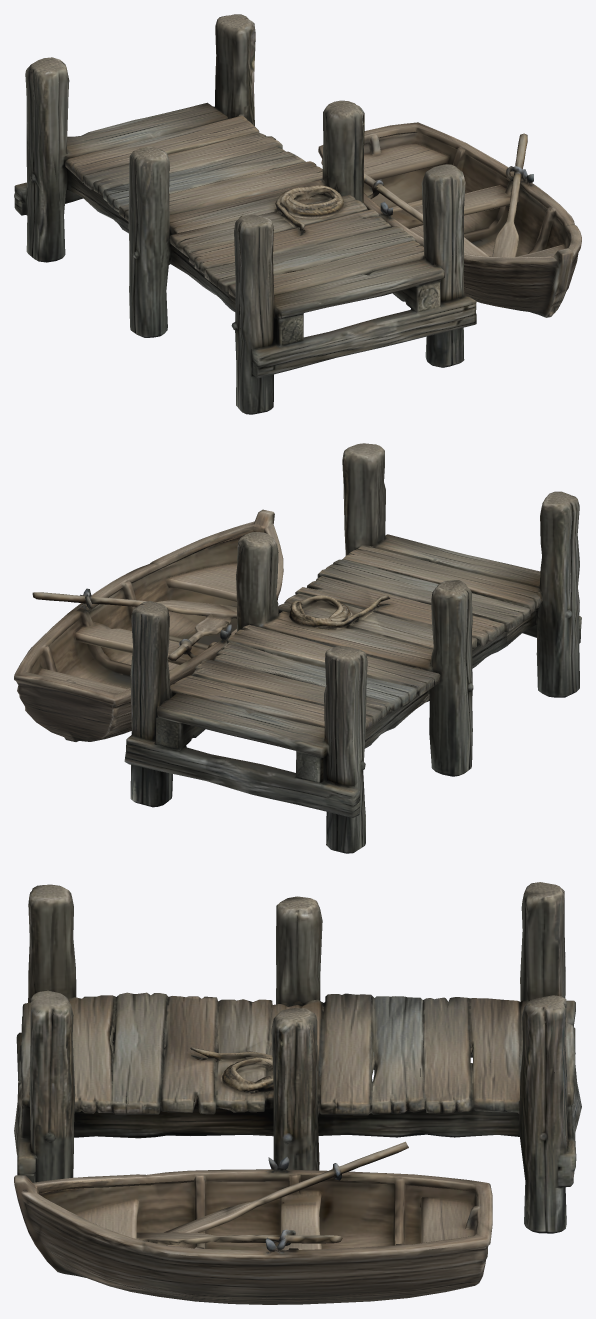
The picture shows the model from 3 angles, top to bottom: view 1: azimuth 30°, elevation 25°; view 2: azimuth 150°, elevation 25°; view 3: azimuth 270°, elevation 25°; orthographic projection. The views are drawn at different scales.
Parts seen in each view (by area): view 1: repaired; view 2: repaired; view 3: repaired.
Boxes of the visible parts, <box> form: repaired: <box>14,14,581,414</box>; repaired: <box>14,443,581,853</box>; repaired: <box>14,882,581,1304</box>.
Bounding box in the file's own units: 0.9994 × 0.4437 × 0.999.
1 material, 1 textured.
